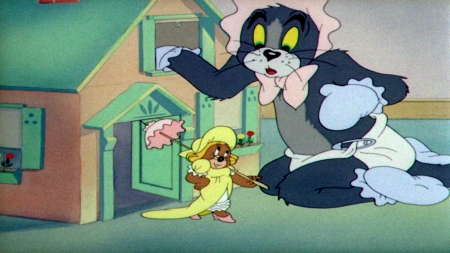tom: (154, 3, 450, 209)
